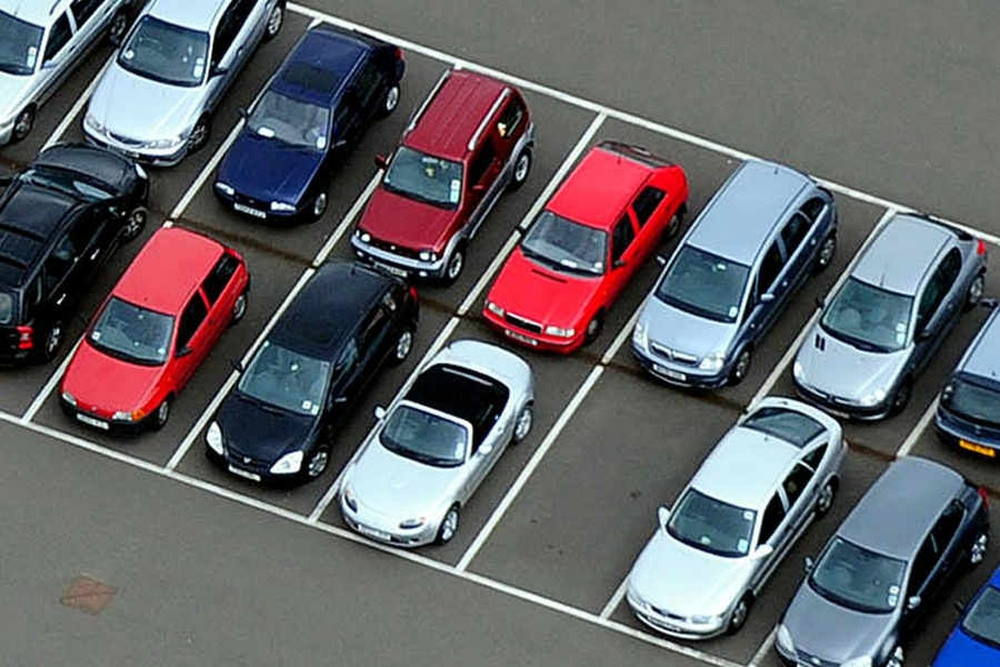empyt_space: (468, 354, 745, 623)
